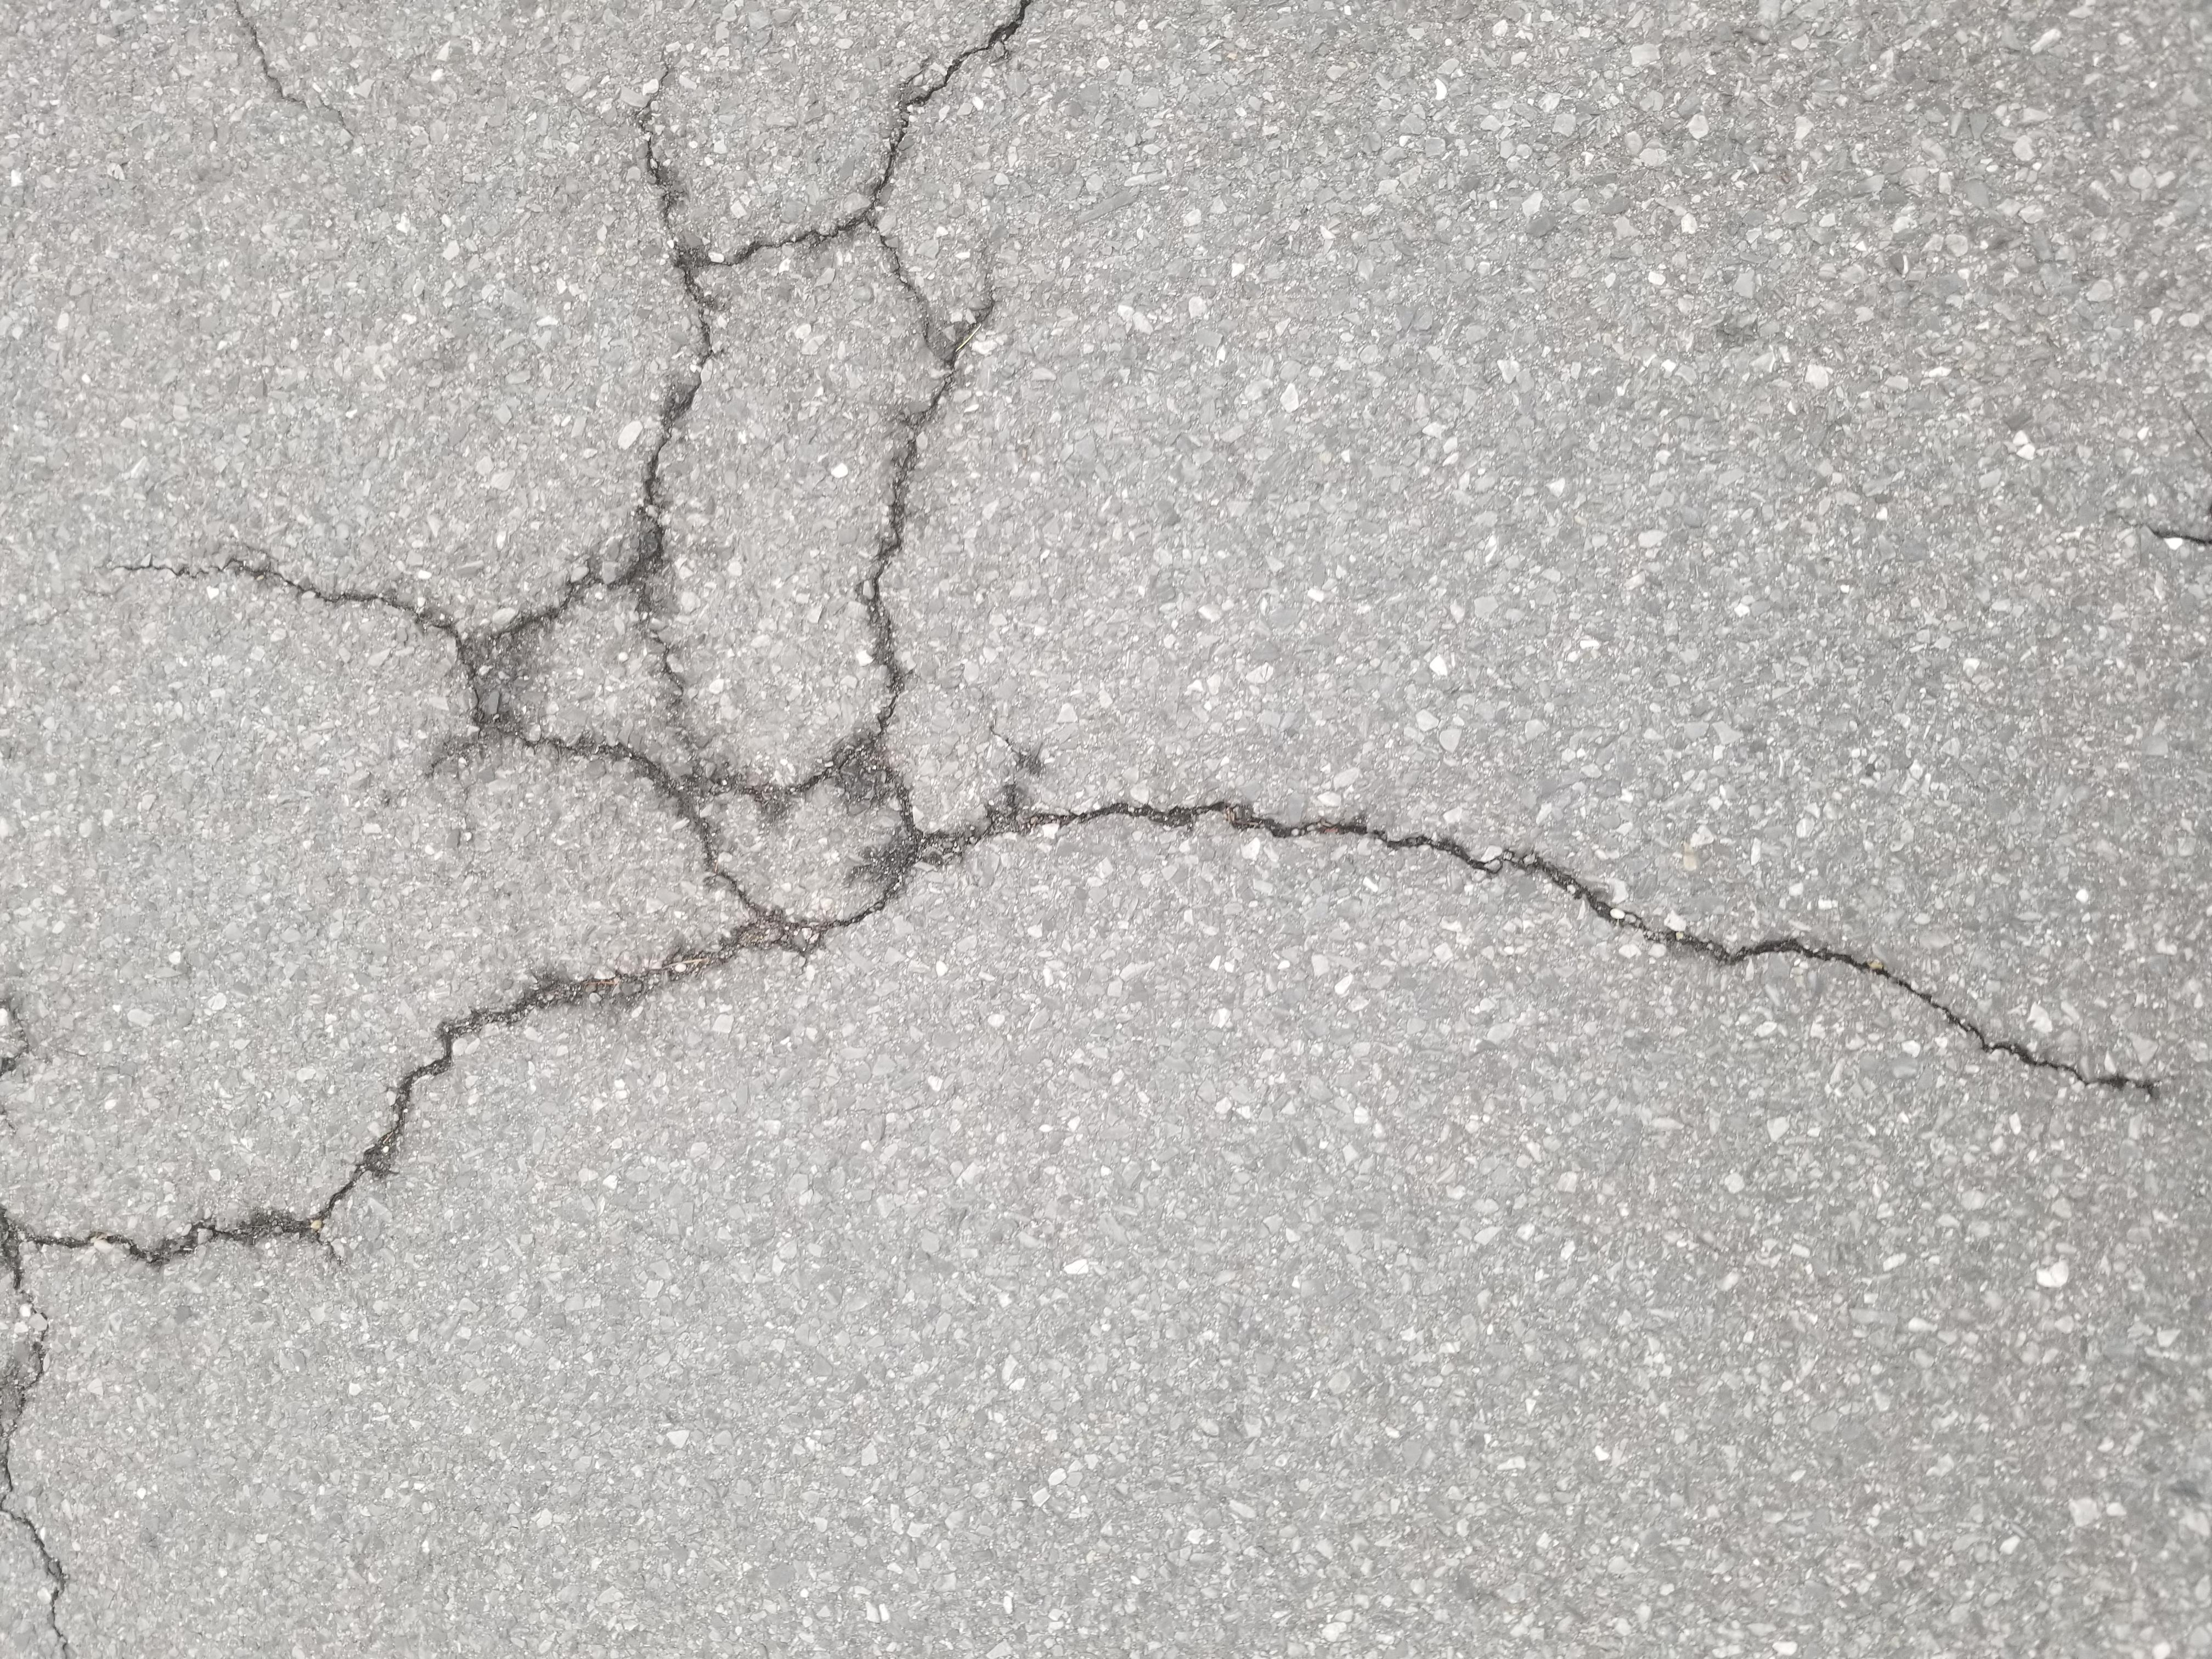alligator-crack: (874, 315, 2181, 793)
crack: (409, 0, 1169, 1659)
